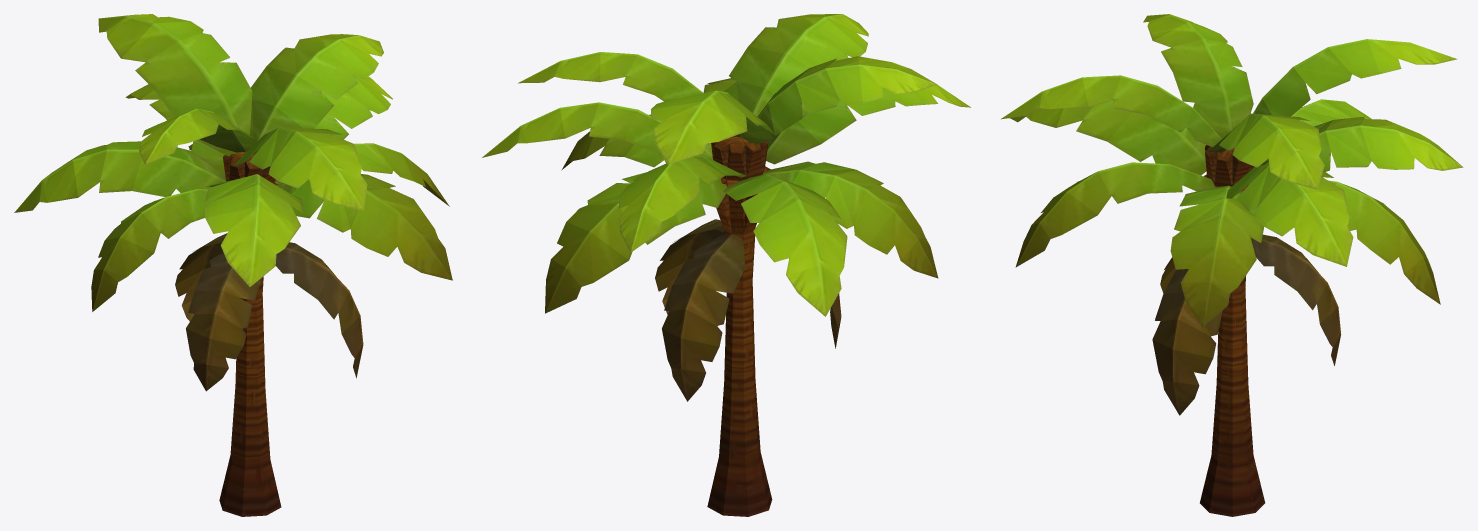
The model's file is palmera.glb.
3 views of the same model, side by side, from view 1: azimuth 30°, elevation 25°; view 2: azimuth 150°, elevation 25°; view 3: azimuth 270°, elevation 25° (orthographic). The views are drawn at different scales.
Visible parts, largest first — view 1: coconut_tree; view 2: coconut_tree; view 3: coconut_tree.
Boxes of the visible parts, x1,y1,x2,y2 form: coconut_tree: [14, 14, 452, 516]; coconut_tree: [482, 14, 970, 516]; coconut_tree: [1001, 14, 1463, 516].
Size of the model in its own units: 4.35 by 5.01 by 4.69.
Materials: 1 (1 with a texture image).
